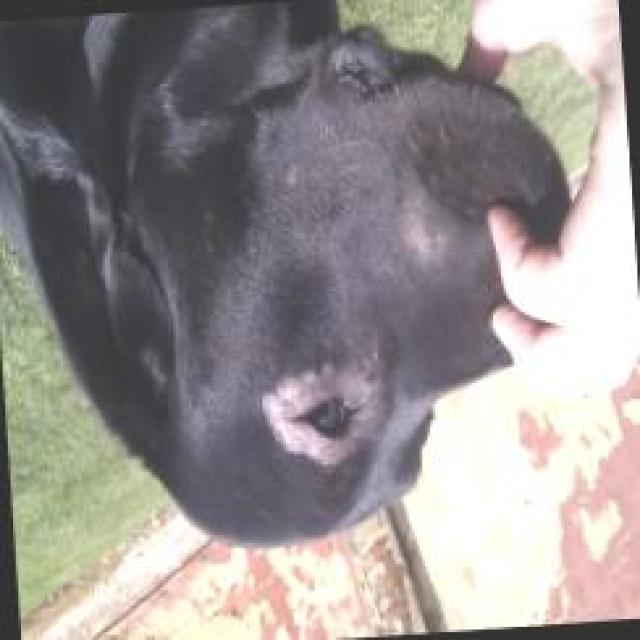allergic dermatitis: (268, 359, 374, 395), (264, 382, 298, 447), (295, 434, 368, 464), (354, 384, 377, 457)
